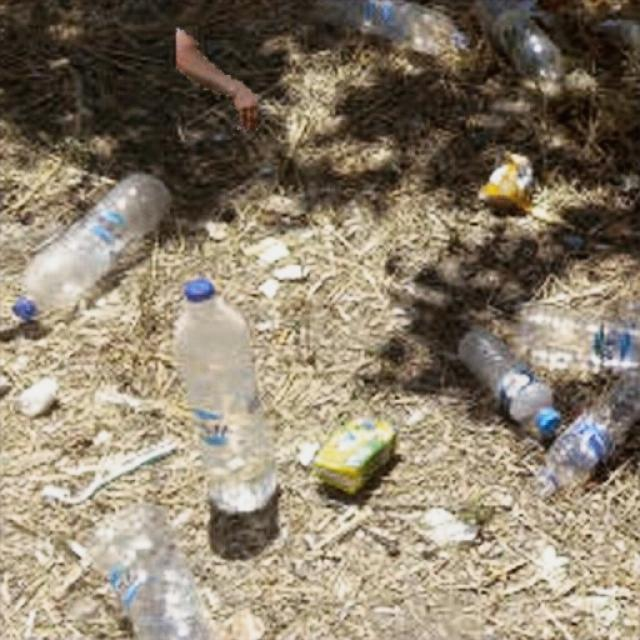Person in Rubble: (176, 28, 256, 132)
